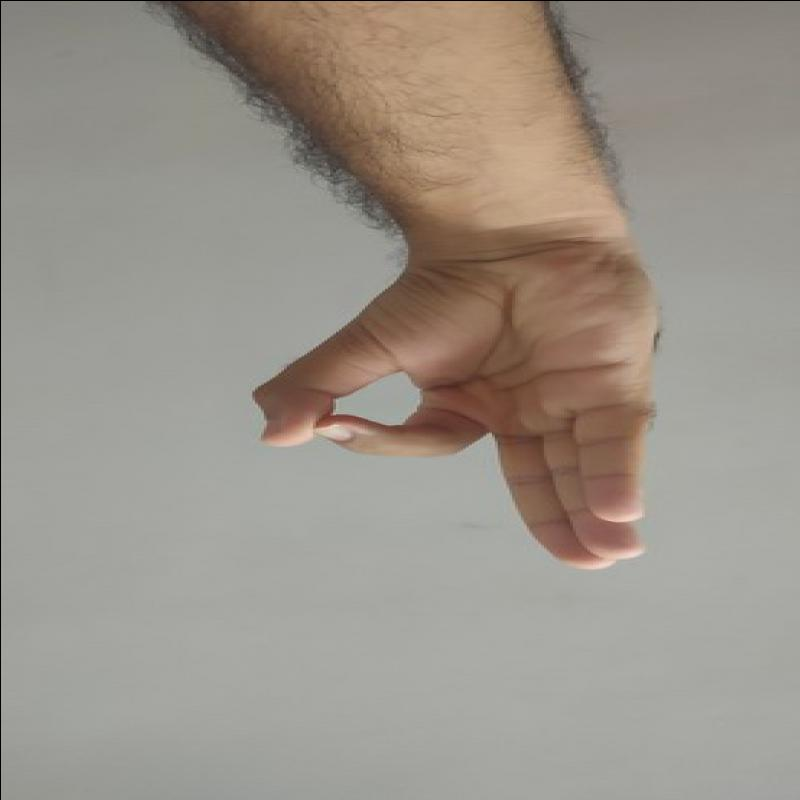Mudraakhyam: (221, 230, 725, 579)
